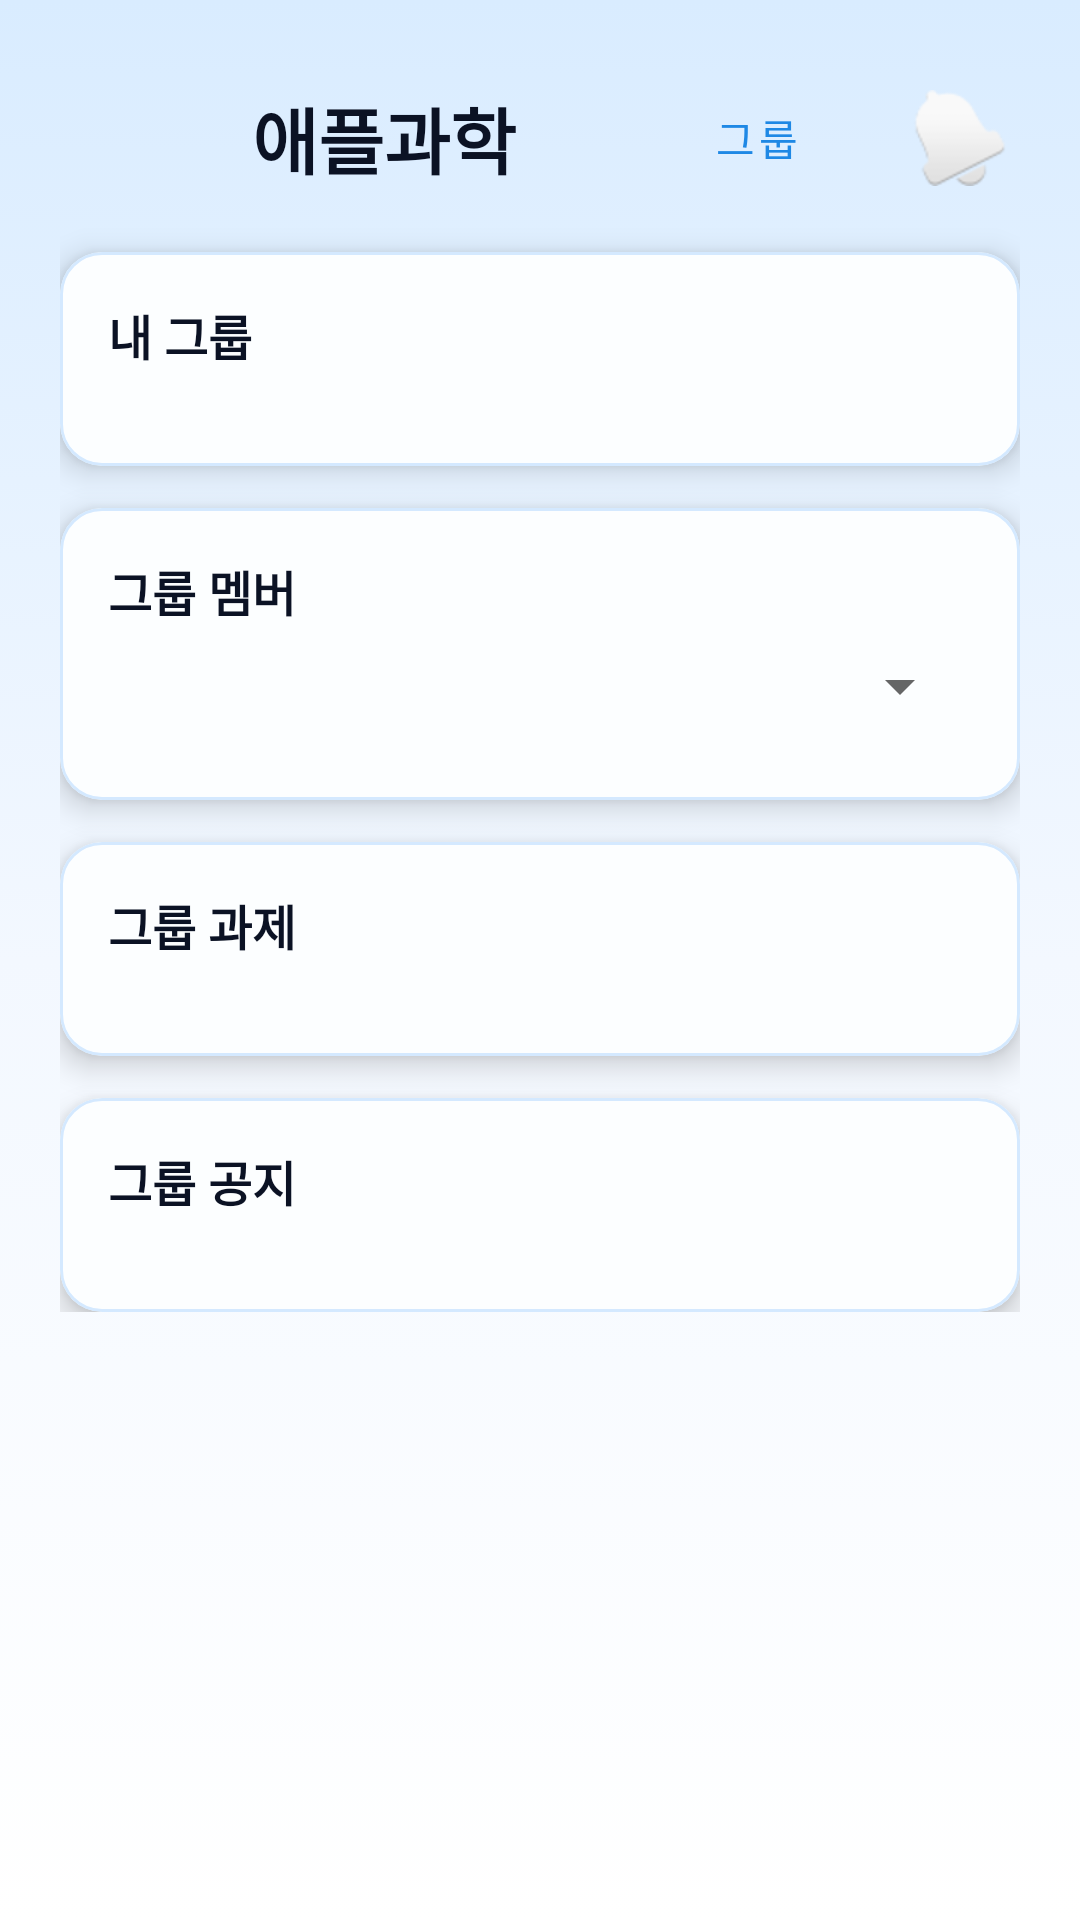

Screen size 1080 x 1920. Icon name, then its center in pixels as (x,y):
알림: (960,139)
